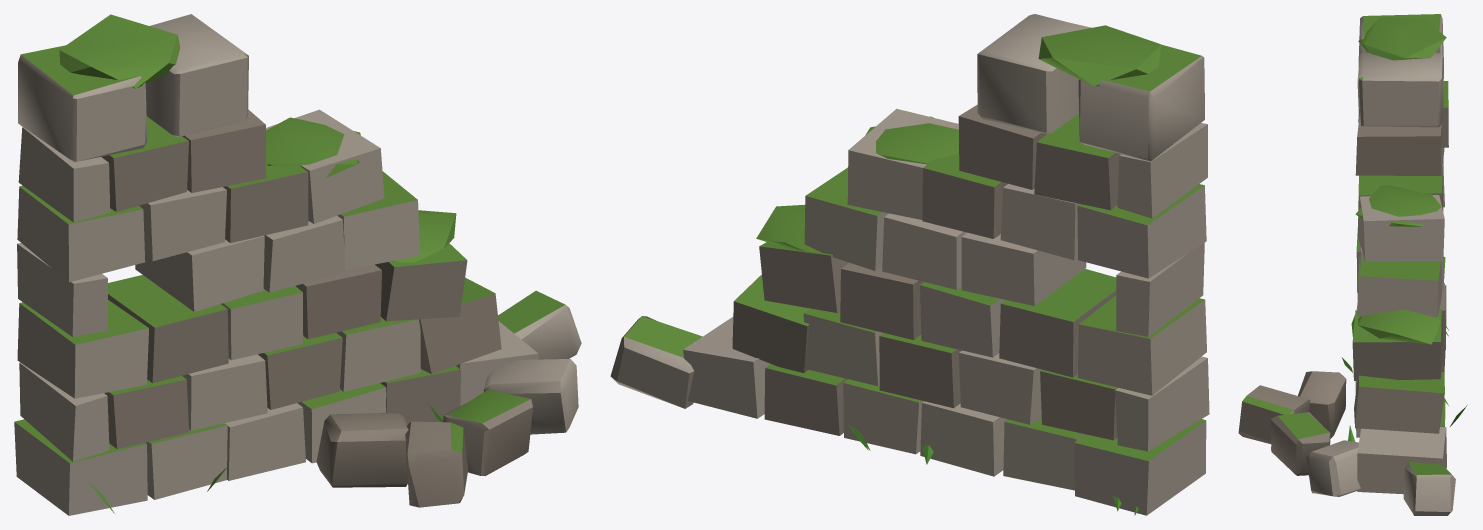
Rendered from wall_ruin.glb.
The picture shows the model from 3 angles, left to right: view 1: azimuth 30°, elevation 25°; view 2: azimuth 150°, elevation 25°; view 3: azimuth 270°, elevation 25°; orthographic projection. The views are drawn at different scales.
Visible parts, largest first — view 1: wall_ruin; view 2: wall_ruin; view 3: wall_ruin.
Boxes of the visible parts, <box> form: wall_ruin: <box>14,14,581,515</box>; wall_ruin: <box>610,14,1209,515</box>; wall_ruin: <box>1238,14,1467,515</box>.
Bounding box in the file's own units: 3.49 × 2.74 × 1.72.
